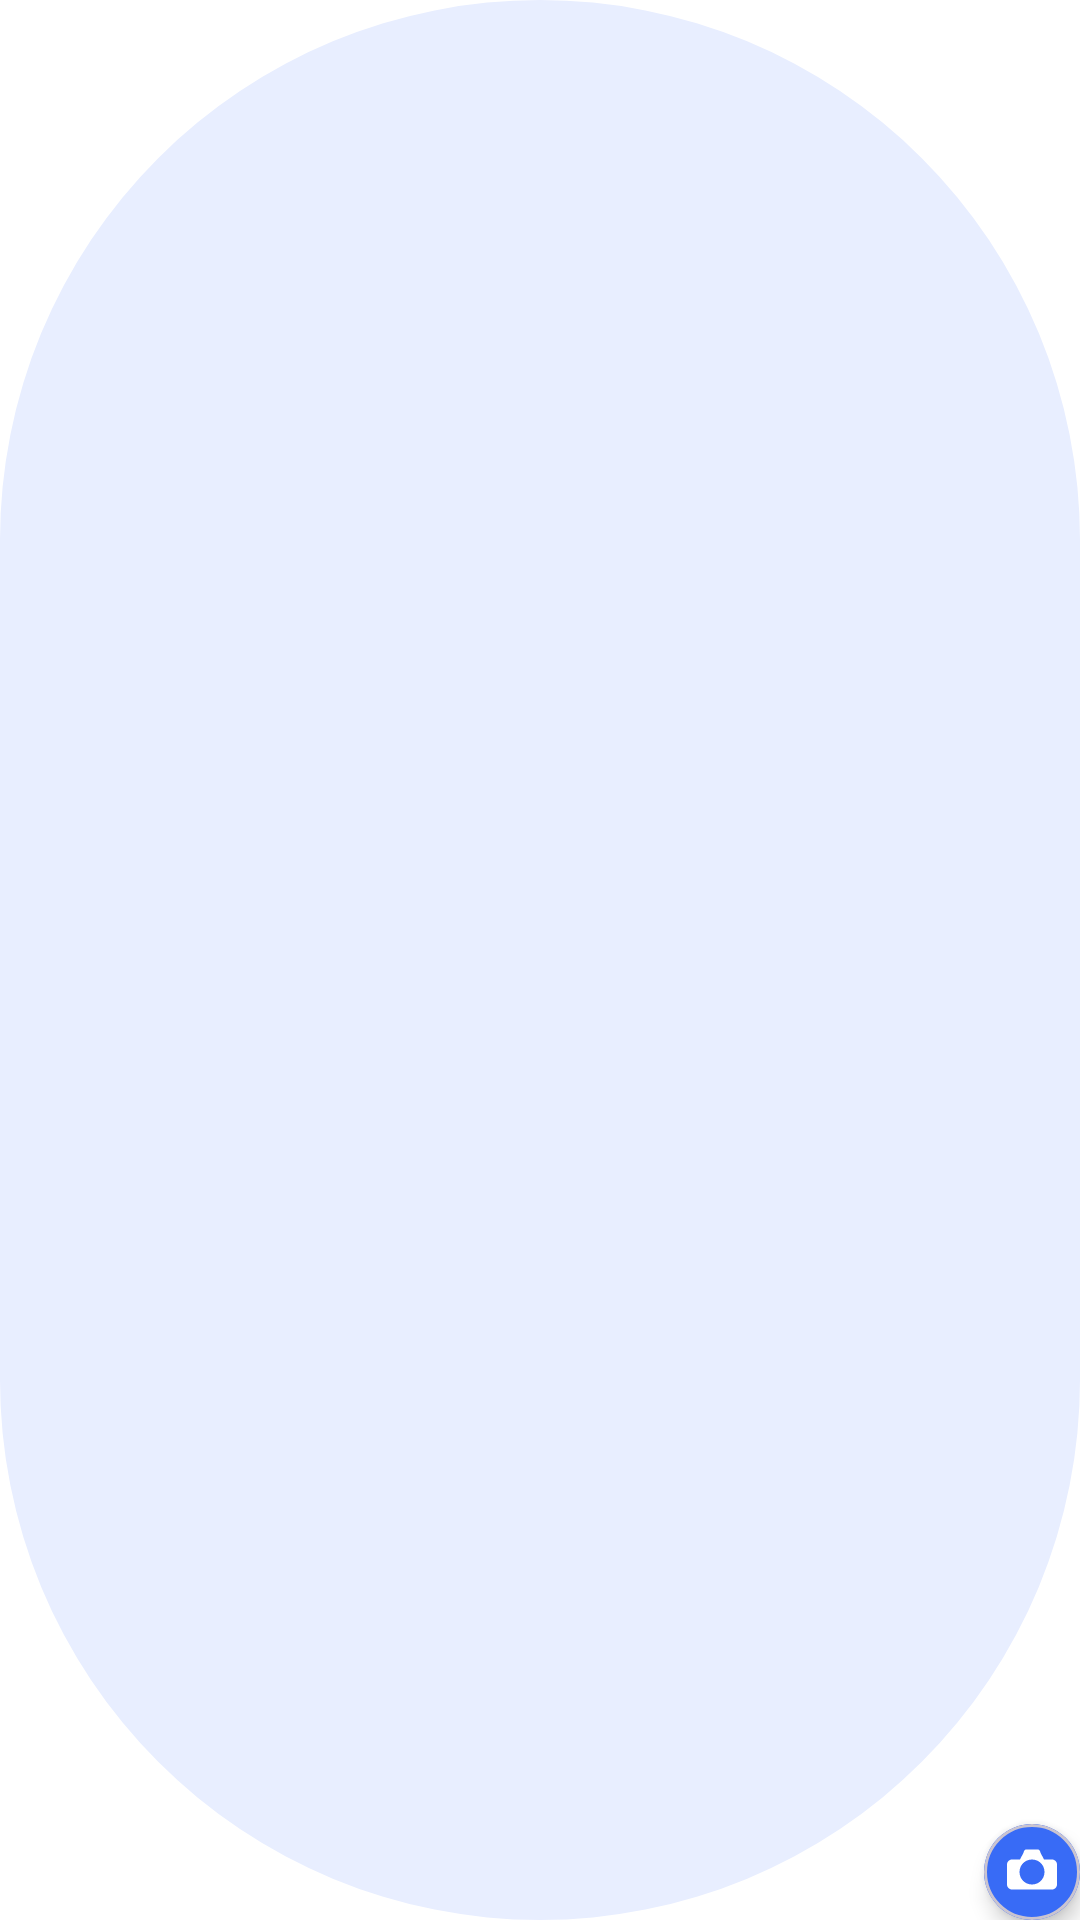

Named icons in this screenshot (1080 × 1920) and their bounding boxes, (x1, y1, x2, y2):
camera: (984, 1824, 1080, 1920)
